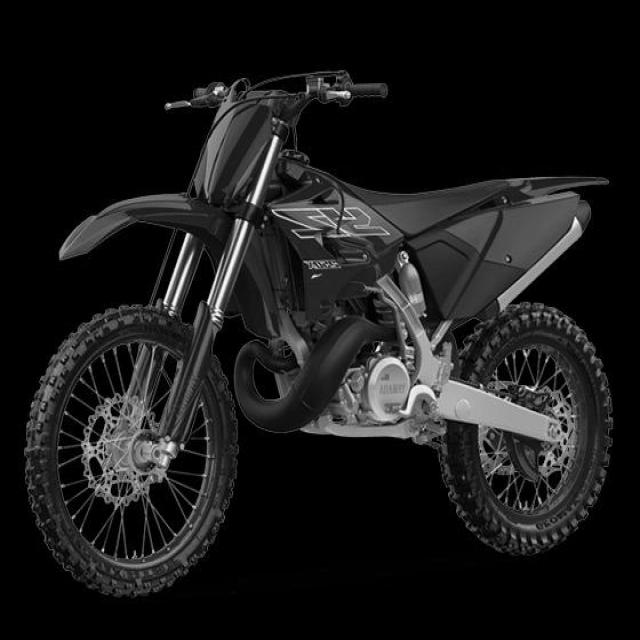Motorcycle: (25, 70, 613, 596)
